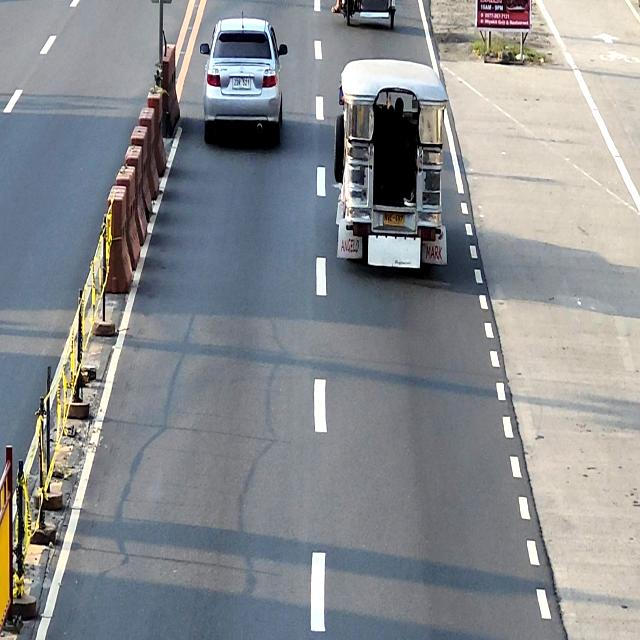Car: (200, 17, 288, 147)
Jeep: (334, 59, 448, 274)
License-Plate: (384, 211, 405, 227), (232, 76, 252, 89)
Tricycle: (340, 0, 396, 24)
